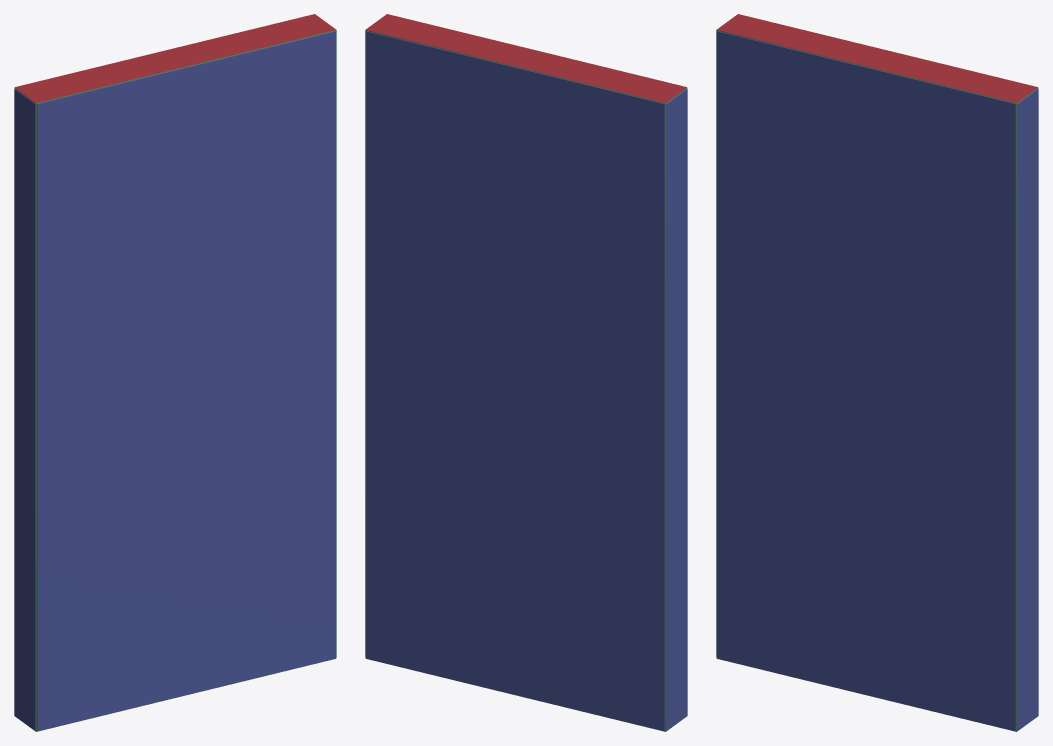
File: SM_Wall_8x16_01.fbx
3 renders of one model, left to right at view 1: azimuth 30°, elevation 25°; view 2: azimuth 150°, elevation 25°; view 3: azimuth 330°, elevation 25°, orthographic.
Parts seen in each view (by area): view 1: SM_Wall_8x16_01; view 2: SM_Wall_8x16_01; view 3: SM_Wall_8x16_01.
Part boxes in pixels (x1=…): SM_Wall_8x16_01: x1=14, y1=14, x2=336, y2=731; SM_Wall_8x16_01: x1=365, y1=14, x2=687, y2=731; SM_Wall_8x16_01: x1=716, y1=14, x2=1038, y2=731.
Bounding box in the file's own units: 804 × 1600 × 104.
